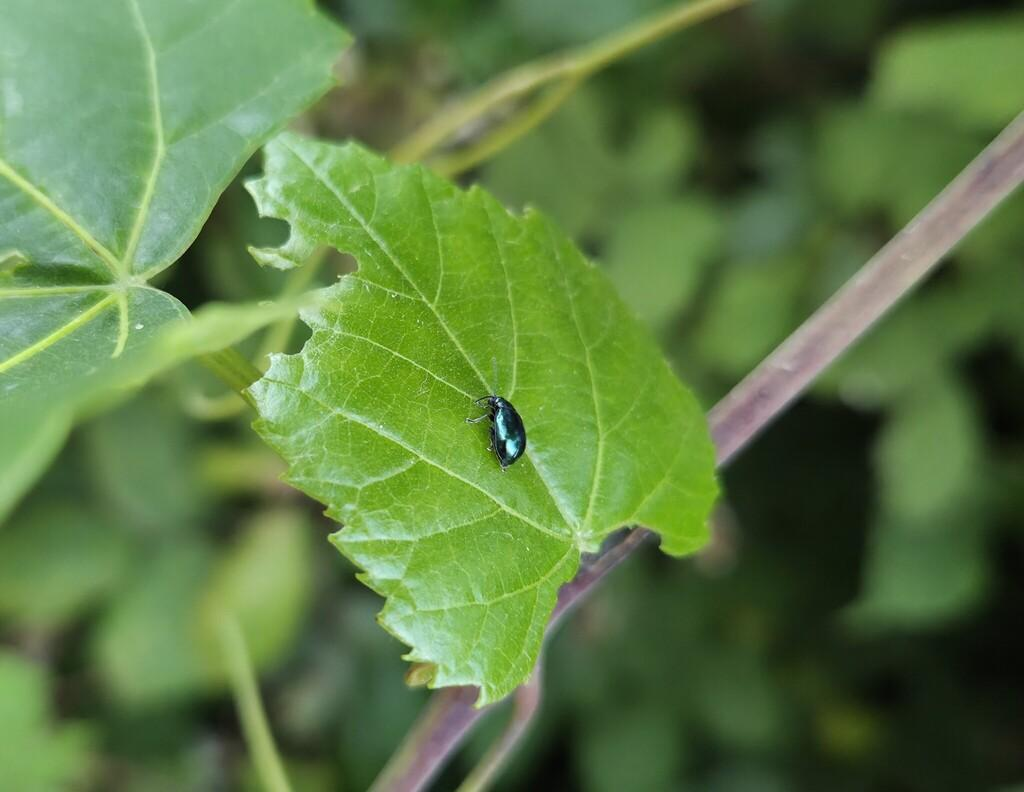flea_beetle: (455, 357, 556, 482)
